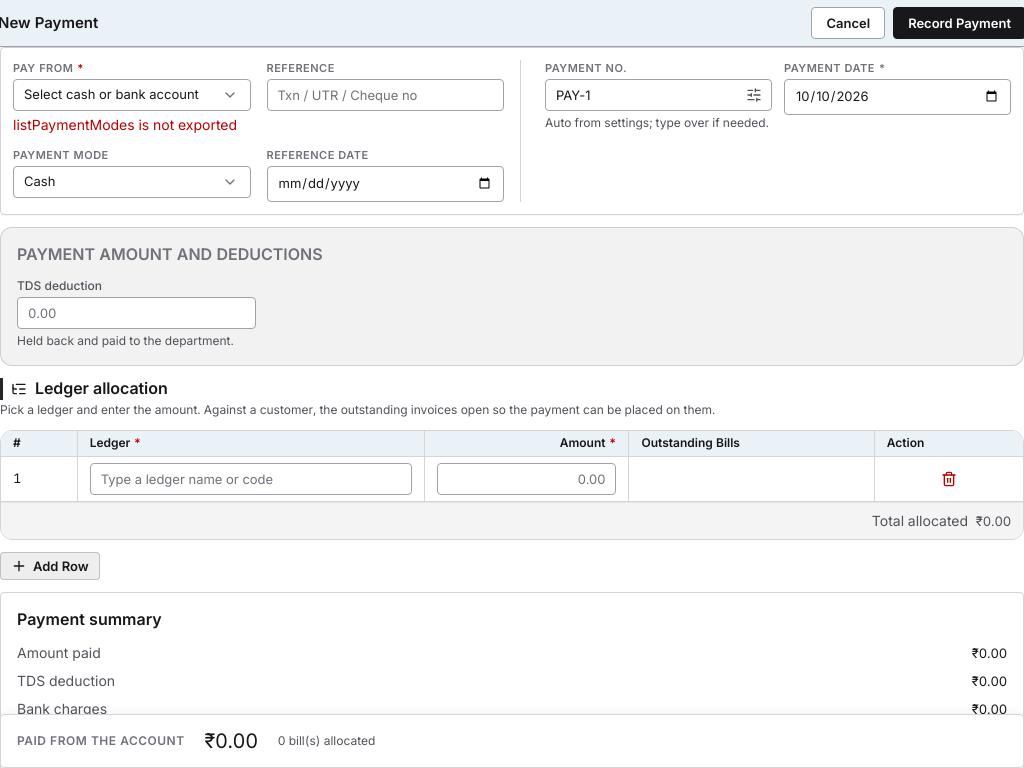
Scenario: the running bar agrees with the summary › shows what leaves the account, not what settles the bills
Type "ABC" into the dropdown named "Account, allocation row 1".
click(251, 479); type("ABC")  # box [90,463,412,495]
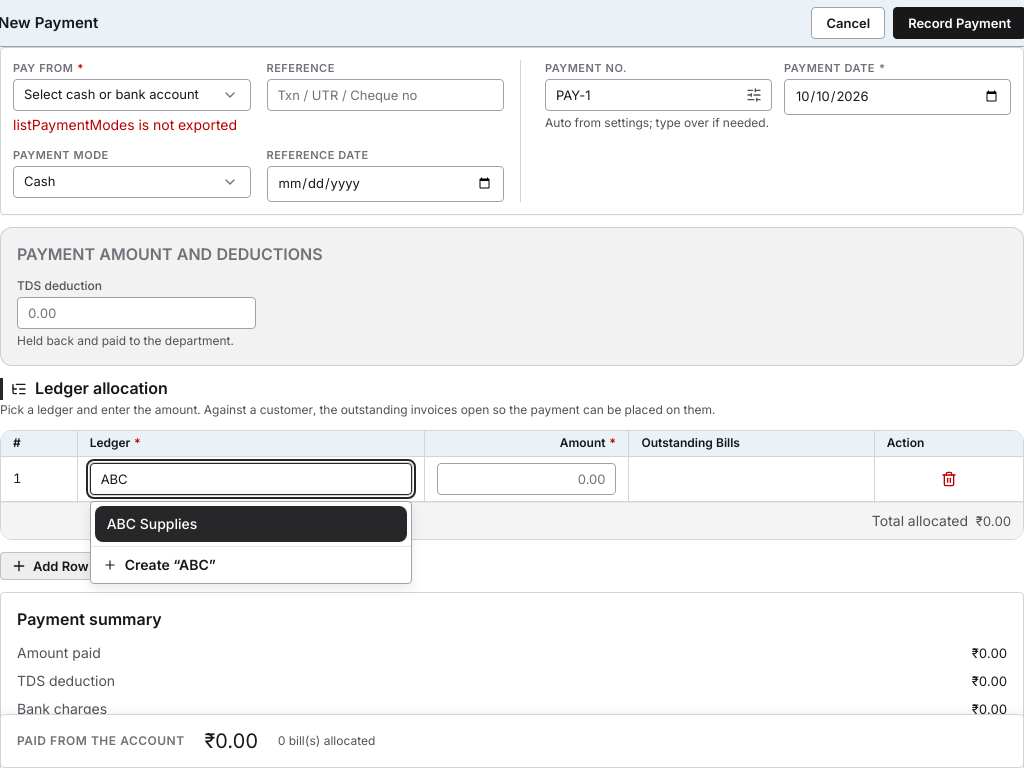
Click the option "ABC Supplies".
click(152, 524)  # box [95,506,407,542]
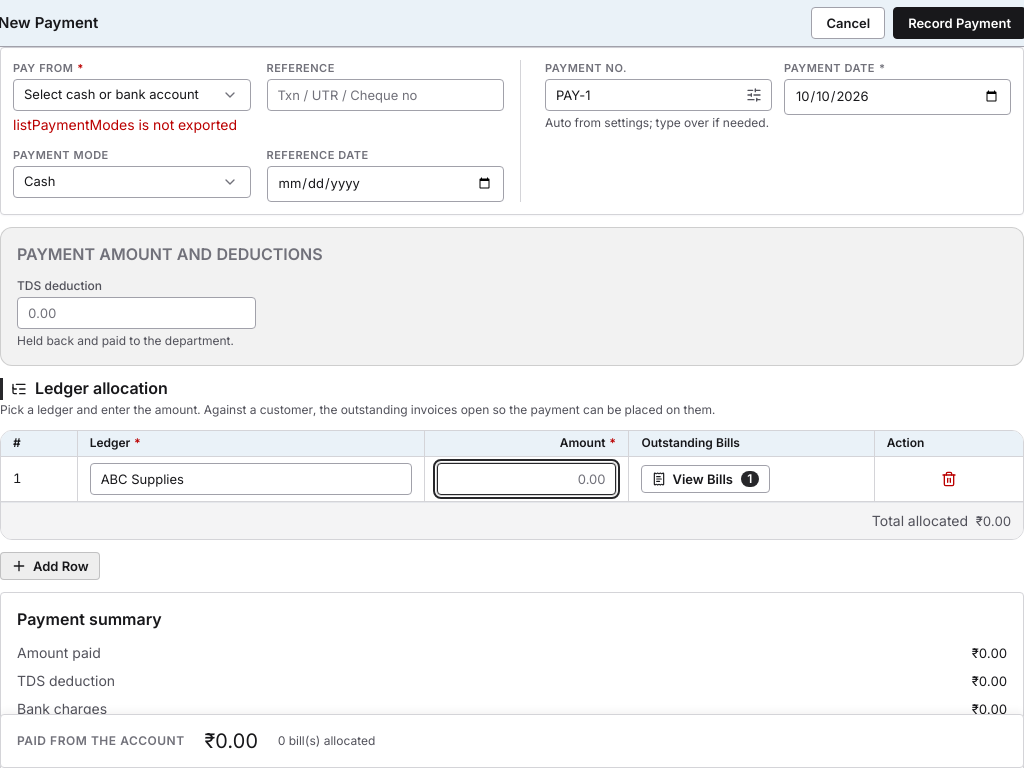
Type "10000" into the number field named "Amount, allocation row 1".
click(527, 479); type("10000")  # box [437,463,616,495]
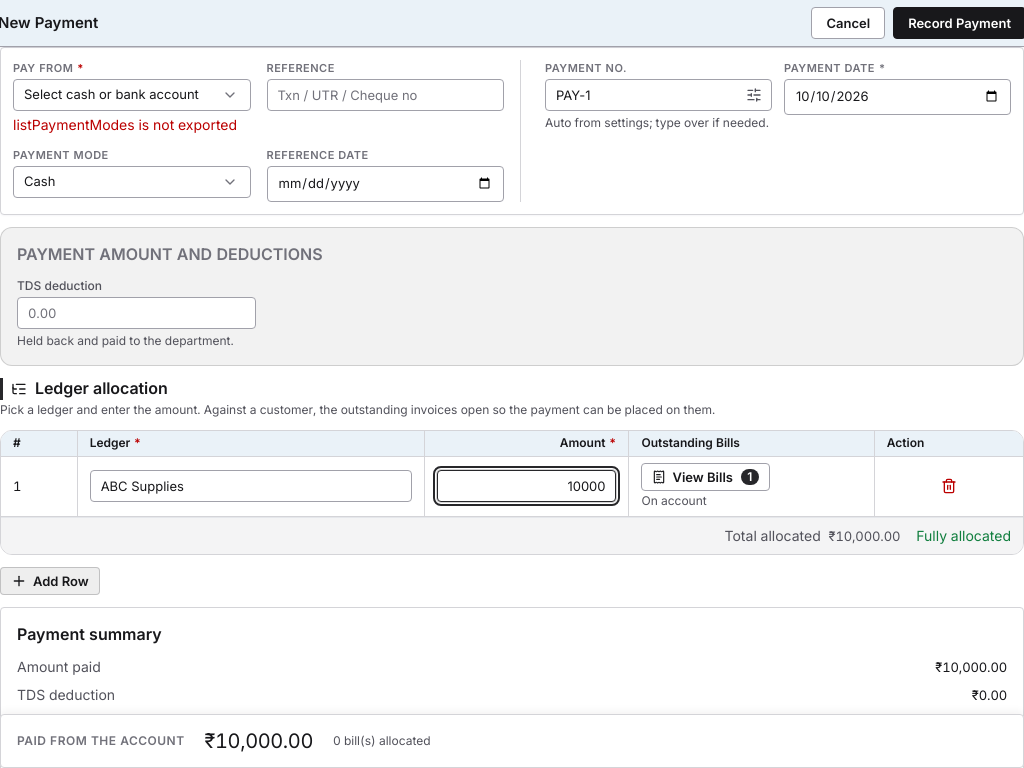
Type "1000" into the number field labelled "TDS deduction".
click(136, 313); type("1000")  # box [17,297,256,329]
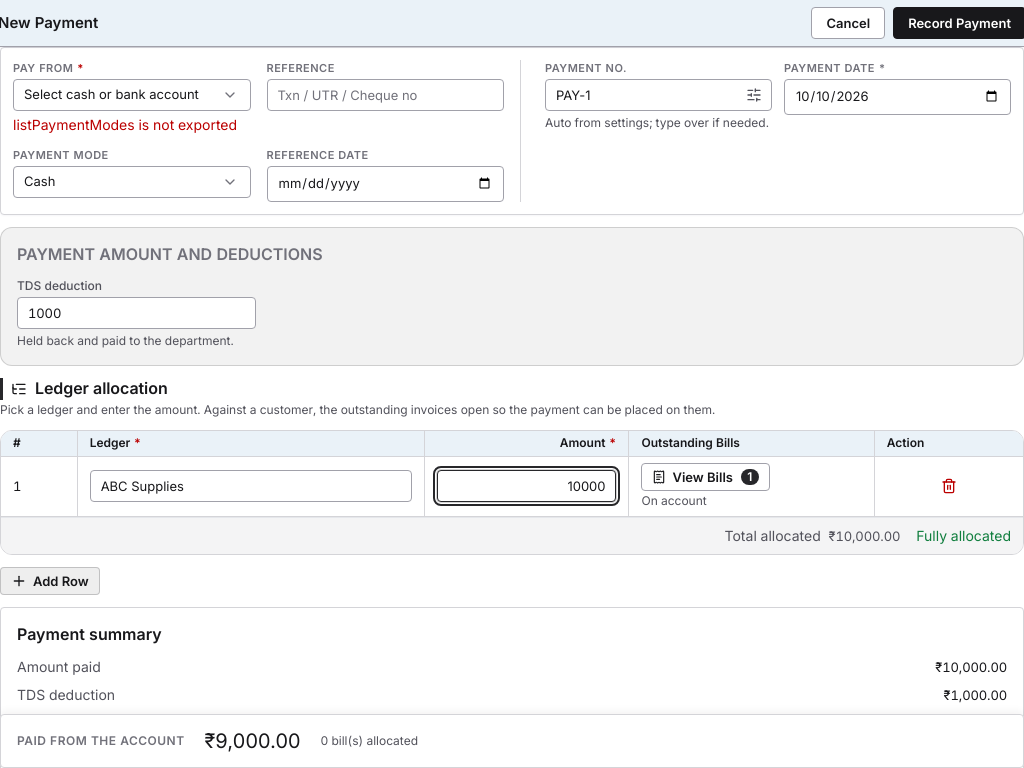
Expected: the element with class "ui-entry-summary" does not show "10,000"
Expected: the element with class "ui-entry-summary" shows "9,000", [205,729,300,753]
